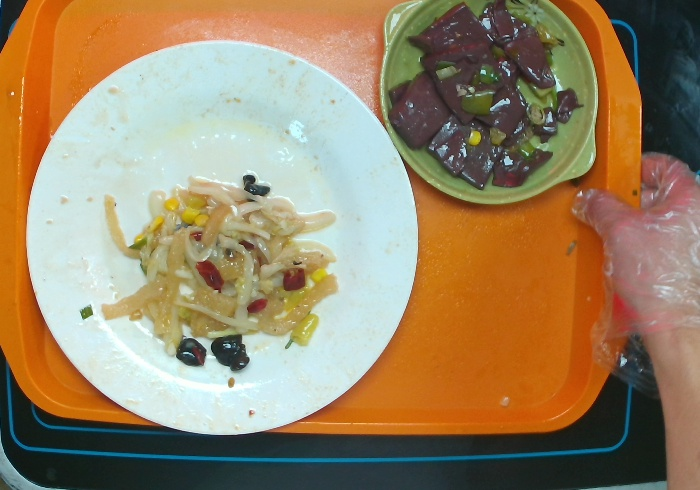NLDX-Da_Yuan_Pan: (22, 37, 421, 439)
NLDX-Lv_Hua_Shuang_Er_Die: (374, 1, 603, 209)
